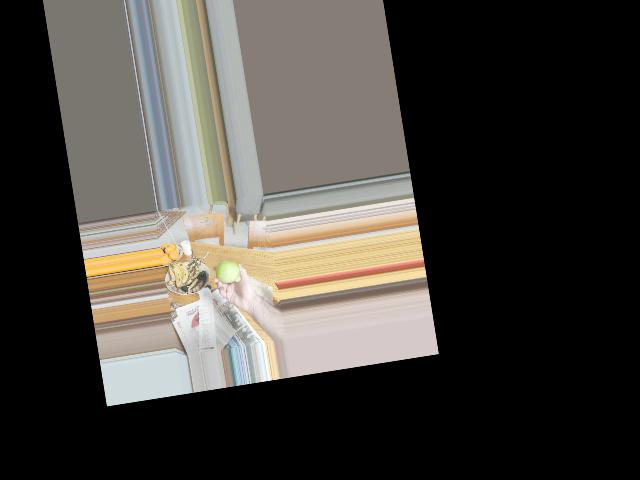apple: (214, 256, 243, 287)
